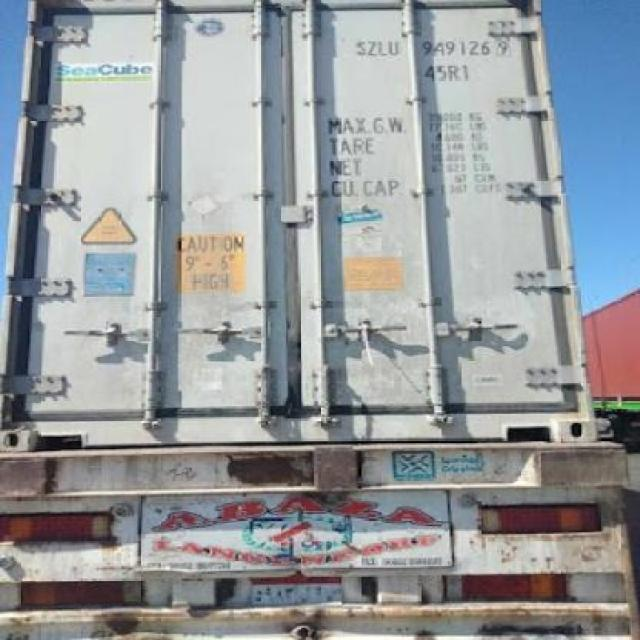ISO: (422, 62, 474, 87)
container_number: (346, 41, 514, 58)
